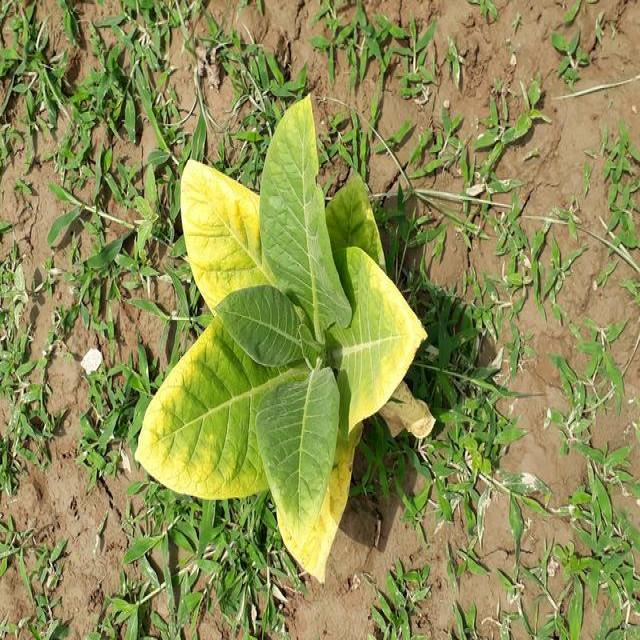crop: (126, 87, 440, 554)
